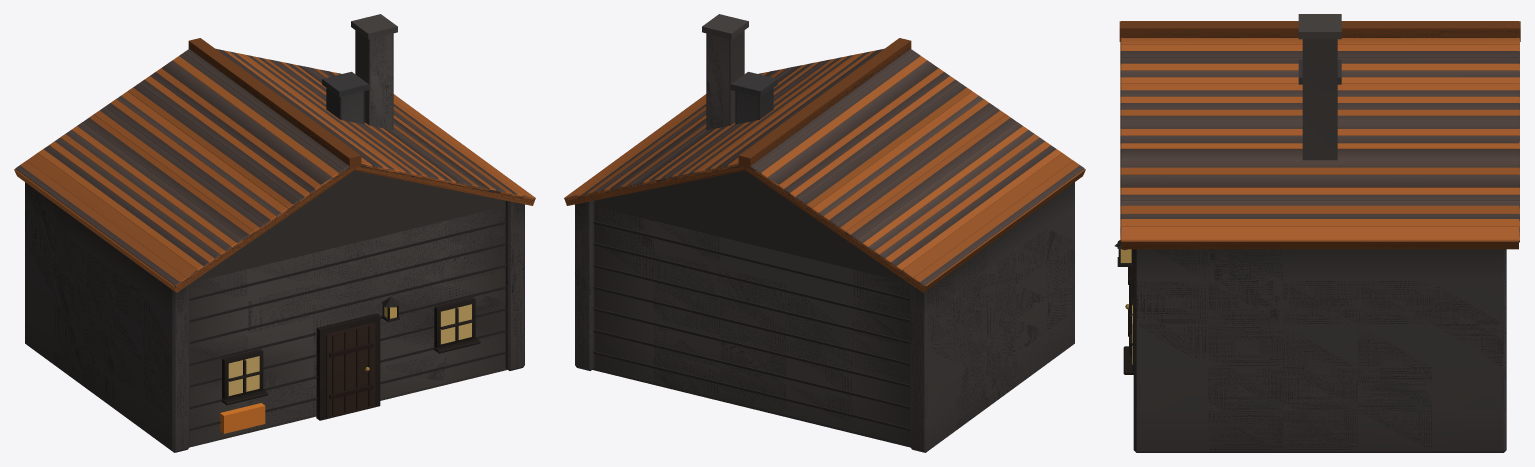
The model's file is houses-basalt.glb.
3 renders of one model, left to right at view 1: azimuth 30°, elevation 25°; view 2: azimuth 150°, elevation 25°; view 3: azimuth 270°, elevation 25°, orthographic. The views are drawn at different scales.
Visible parts, largest first — view 1: house_basalt_l0, house_basalt_l1, house_basalt_l0__lod, house_basalt_l0__glow, house_basalt_s0, house_basalt_s0__lod; view 2: house_basalt_l0, house_basalt_l1, house_basalt_l0__lod, house_basalt_s0, house_basalt_s0__lod; view 3: house_basalt_l0, house_basalt_l1, house_basalt_l0__lod.
Boxes of the visible parts, left/top/right/bottom form: house_basalt_l0: left=16, top=14, right=534, bottom=452; house_basalt_l1: left=15, top=36, right=534, bottom=451; house_basalt_l0__lod: left=14, top=14, right=535, bottom=447; house_basalt_l0__glow: left=220, top=304, right=471, bottom=433; house_basalt_s0: left=324, top=72, right=367, bottom=124; house_basalt_s0__lod: left=322, top=71, right=368, bottom=124; house_basalt_l0: left=565, top=14, right=1083, bottom=452; house_basalt_l1: left=565, top=34, right=1084, bottom=448; house_basalt_l0__lod: left=564, top=14, right=1085, bottom=447; house_basalt_s0: left=732, top=72, right=775, bottom=123; house_basalt_s0__lod: left=731, top=71, right=777, bottom=124; house_basalt_l0: left=1117, top=14, right=1519, bottom=452; house_basalt_l1: left=1120, top=31, right=1519, bottom=451; house_basalt_l0__lod: left=1115, top=14, right=1520, bottom=370.
Size of the model in its own units: 10.49 by 8.58 by 8.17.
